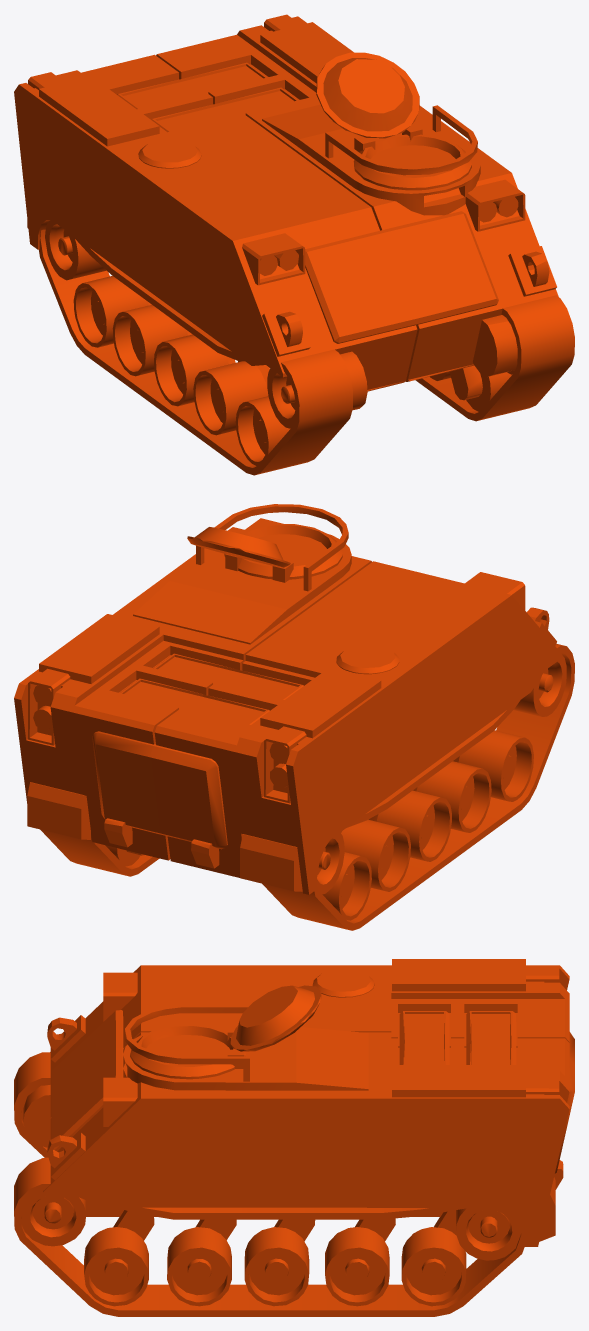
Rendered from WbApcRigged.fbx.
3 views of the same model, one above another, from view 1: azimuth 30°, elevation 25°; view 2: azimuth 150°, elevation 25°; view 3: azimuth 270°, elevation 25° (orthographic). The views are drawn at different scales.
Parts seen in each view (by area): view 1: Body, Wheel.046, Wheel.044, Wheel.045, Wheel.043, Wheel.047, WheelFixed.014, WheelFixed.015, Wheel.036; view 2: Body, Wheel.047, Wheel.044, Wheel.045, Wheel.046, Wheel.043, WheelFixed.015, WheelFixed.014; view 3: Body, Wheel.038, Wheel.036, Wheel.039, Wheel.037, Wheel.040, WheelFixed.013, WheelFixed.012.
Boxes of the visible parts, <box> form: Body: <box>14,14,574,475</box>; Wheel.046: <box>193,361,268,435</box>; Wheel.044: <box>112,305,187,376</box>; Wheel.045: <box>154,334,228,406</box>; Wheel.043: <box>73,276,148,347</box>; Wheel.047: <box>235,396,290,466</box>; WheelFixed.014: <box>45,220,106,280</box>; WheelFixed.015: <box>267,368,295,428</box>; Wheel.036: <box>466,372,512,411</box>; Body: <box>14,504,574,930</box>; Wheel.047: <box>458,730,533,801</box>; Wheel.044: <box>341,819,410,891</box>; Wheel.045: <box>377,790,451,861</box>; Wheel.046: <box>416,761,491,832</box>; Wheel.043: <box>322,852,371,920</box>; WheelFixed.015: <box>514,655,566,716</box>; WheelFixed.014: <box>317,832,344,894</box>; Body: <box>14,959,574,1316</box>; Wheel.038: <box>244,1227,309,1306</box>; Wheel.036: <box>84,1227,148,1306</box>; Wheel.039: <box>325,1227,389,1306</box>; Wheel.037: <box>167,1227,231,1306</box>; Wheel.040: <box>401,1227,466,1306</box>; WheelFixed.013: <box>456,1208,520,1260</box>; WheelFixed.012: <box>21,1191,86,1246</box>.
Size of the model in its own units: 0.4581 by 0.4661 by 0.8144.
